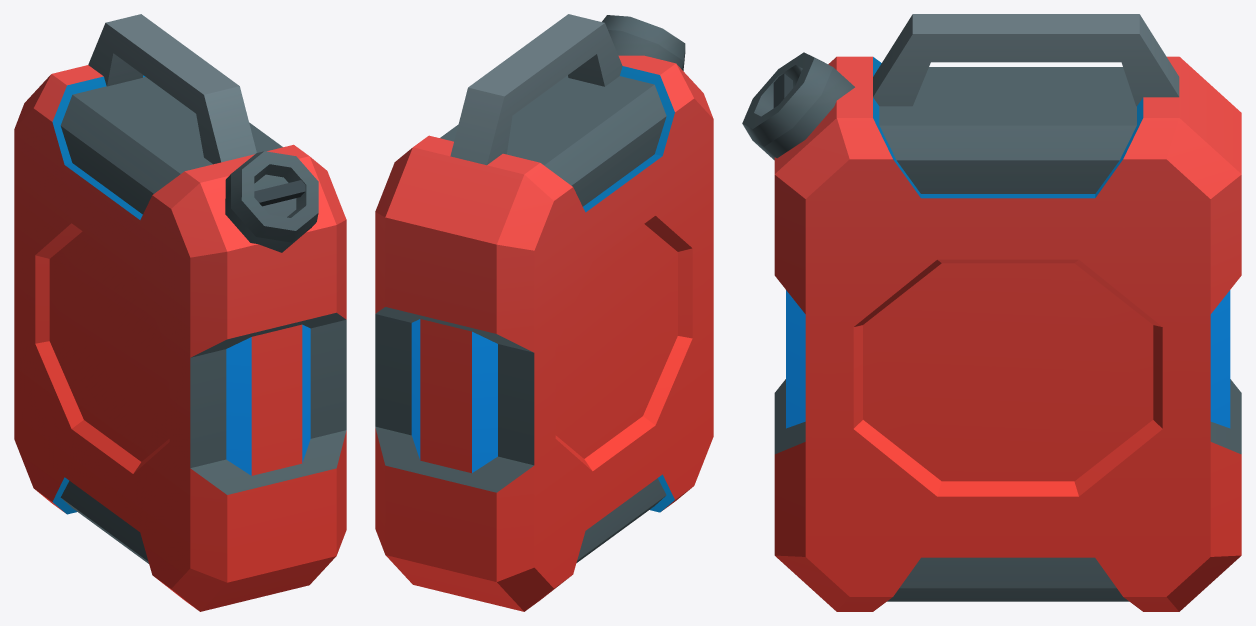
File: Gas_can_004.glb
3 renders of one model, left to right at view 1: azimuth 30°, elevation 25°; view 2: azimuth 150°, elevation 25°; view 3: azimuth 270°, elevation 25°, orthographic. The views are drawn at different scales.
Visible parts, largest first — view 1: Gas_can_004; view 2: Gas_can_004; view 3: Gas_can_004.
Part boxes in pixels (x1=…): Gas_can_004: x1=14, y1=14, x2=346, y2=611; Gas_can_004: x1=375, y1=14, x2=713, y2=611; Gas_can_004: x1=742, y1=14, x2=1241, y2=611.
Bounding box in the file's own units: 0.2 × 0.5921 × 0.4811.
2 materials, 2 textured.
